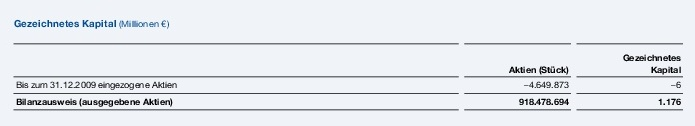table: (0, 0, 695, 126)
